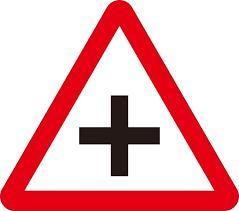fork_road: (1, 1, 237, 206)
